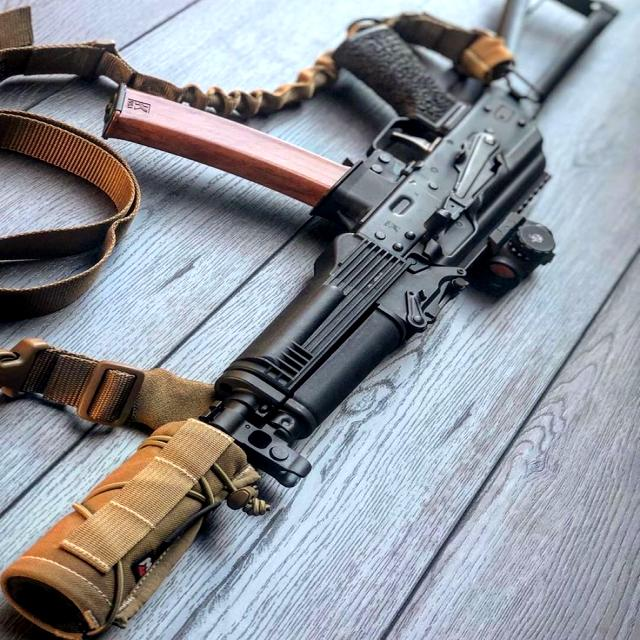ak: (0, 2, 636, 622)
